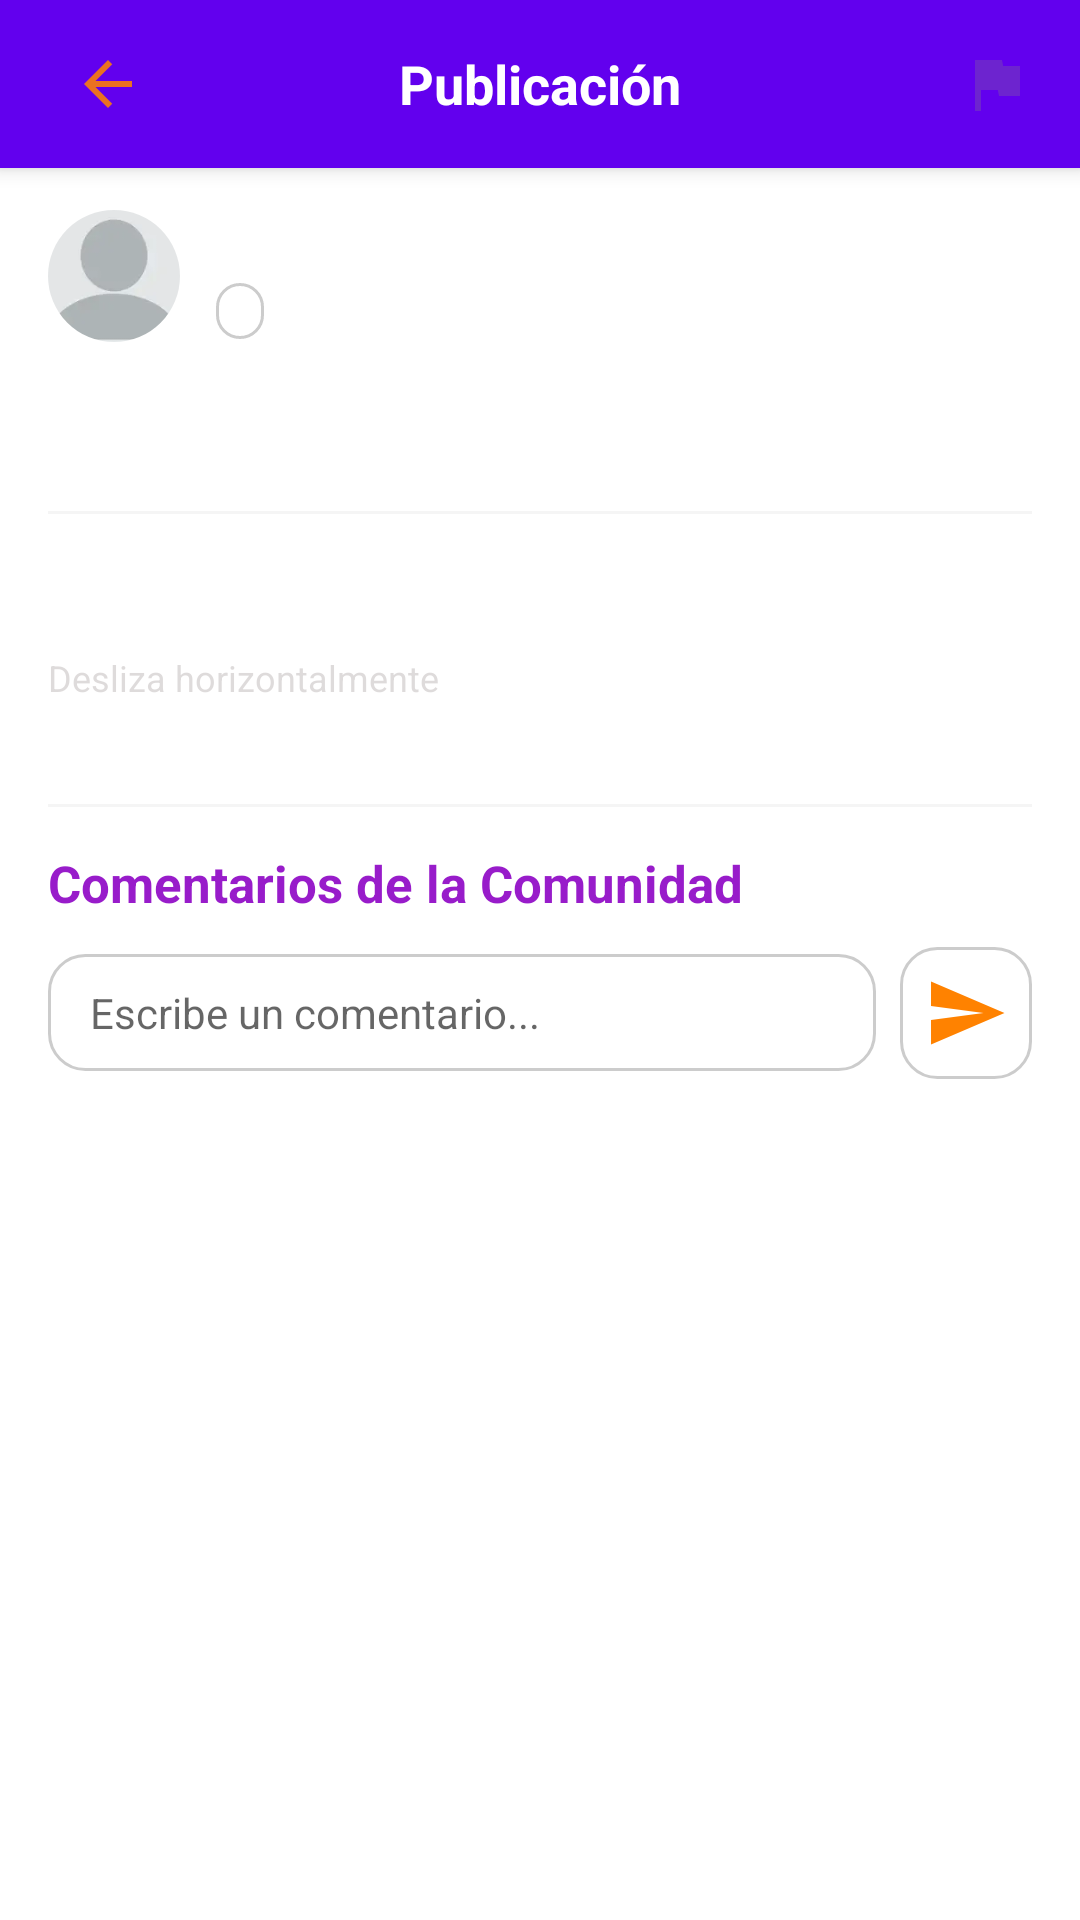

Screen size 1080x1920. Icon name, then its center in pixels as point (x, y):
Avatar del autor: point (114, 276)
Enviar comentario: point (966, 1013)
Regresar: point (108, 84)
Reportar publicación: point (997, 85)
